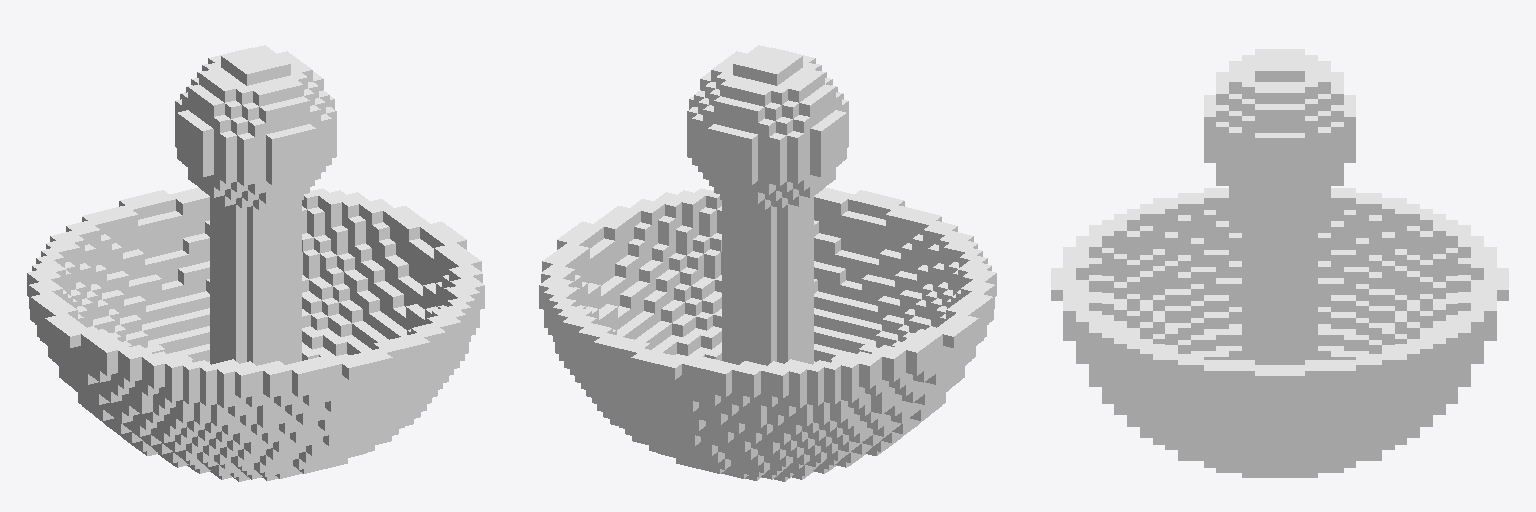
Rendered from Raygun.obj.
The picture shows the model from 3 angles: view 1: azimuth 30°, elevation 25°; view 2: azimuth 150°, elevation 25°; view 3: azimuth 270°, elevation 25°; orthographic projection.
Parts seen in each view (by area): view 1: object 1; view 2: object 1; view 3: object 1.
Boxes of the visible parts, <box> form: object 1: <box>27,45,484,481</box>; object 1: <box>539,45,996,481</box>; object 1: <box>1051,49,1508,477</box>.
Bounding box in the file's own units: 3.6 × 3.4 × 3.6.